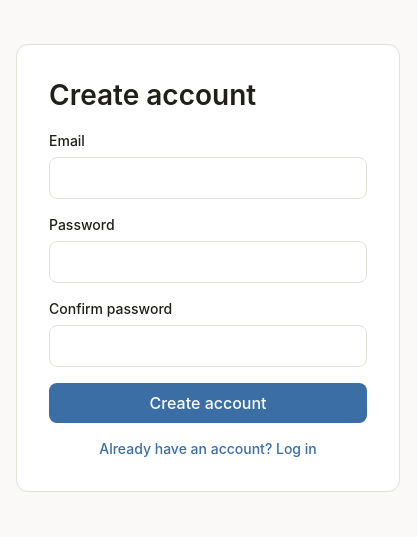
Scenario: RegisterScreen › on failure, shows an inline error and leaves the form usable (not stuck disabled)
The width and height of the screenshot is (417, 537).
Type "person@example.com" into the field labelled "Email" at x=208, y=178, box [49,157,367,199]
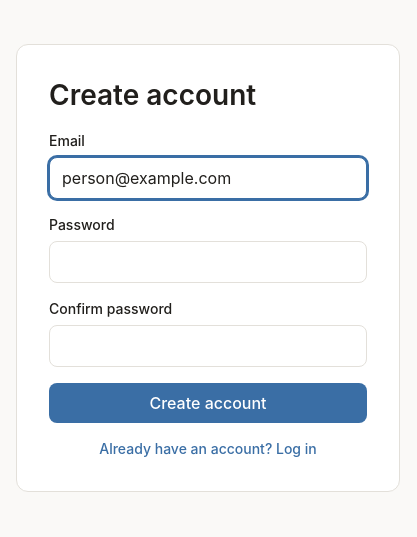
Type "hunter2" into the password field labelled "Password" at x=208, y=262, box [49,241,367,283]
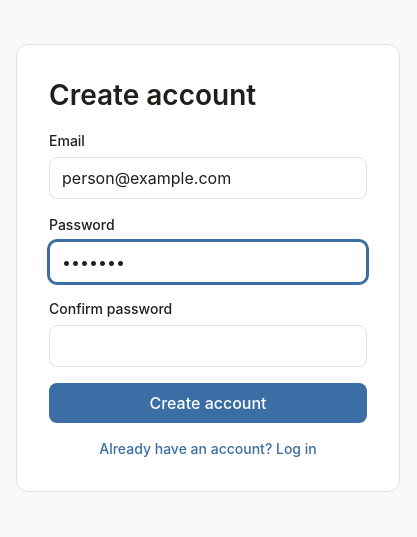
Type "hunter2" into the password field labelled "Confirm password" at x=208, y=346, box [49,325,367,367]
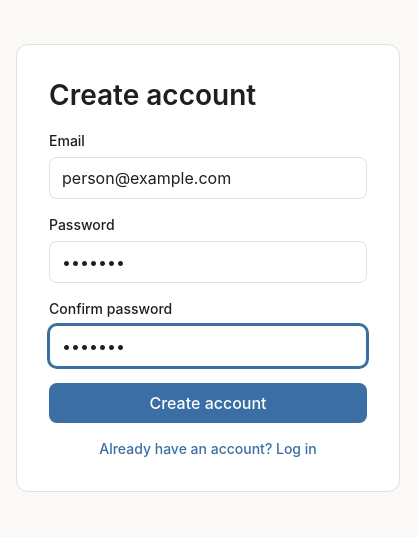
Click the button "Create account" at x=208, y=403, box [49,383,367,423]
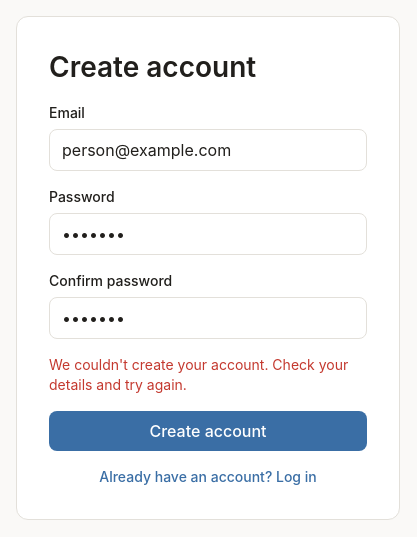
expect the button "Create account" is enabled: met, box [49,411,367,451]
expect the text "We couldn't create your account. Check your details and try again." is shown: met, box [49,355,367,395]
